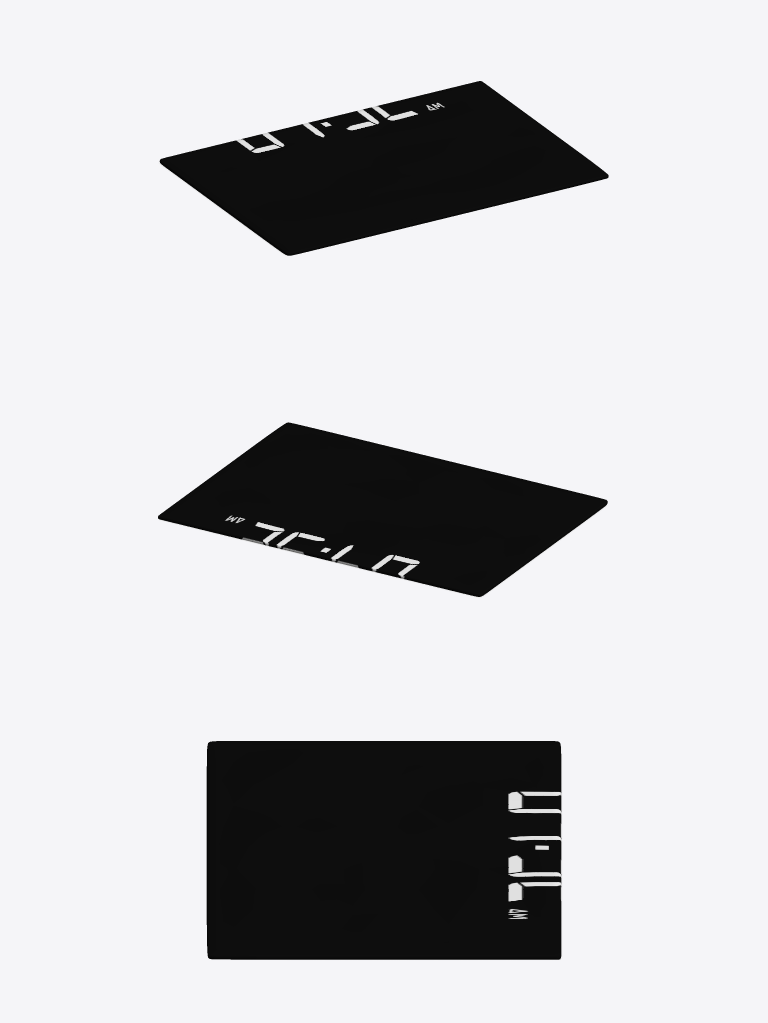
3 views of the same model, one above another, from view 1: azimuth 30°, elevation 25°; view 2: azimuth 150°, elevation 25°; view 3: azimuth 270°, elevation 25° (orthographic). The views are drawn at different scales.
Visible parts, largest first — view 1: Ava_Large_Geometric_Hand_Tufted_Wool_Rug_160_x_230cm_Tonal_B; view 2: Ava_Large_Geometric_Hand_Tufted_Wool_Rug_160_x_230cm_Tonal_B, FLOOR; view 3: Ava_Large_Geometric_Hand_Tufted_Wool_Rug_160_x_230cm_Tonal_B, FLOOR.
Boxes of the visible parts, bbox=[...] form: Ava_Large_Geometric_Hand_Tufted_Wool_Rug_160_x_230cm_Tonal_B: bbox=[159, 81, 608, 255]; Ava_Large_Geometric_Hand_Tufted_Wool_Rug_160_x_230cm_Tonal_B: bbox=[158, 422, 607, 596]; FLOOR: bbox=[158, 504, 607, 597]; Ava_Large_Geometric_Hand_Tufted_Wool_Rug_160_x_230cm_Tonal_B: bbox=[206, 741, 561, 959]; FLOOR: bbox=[210, 746, 562, 959].
Size of the model in its own units: 334 by 2.9 by 334.
